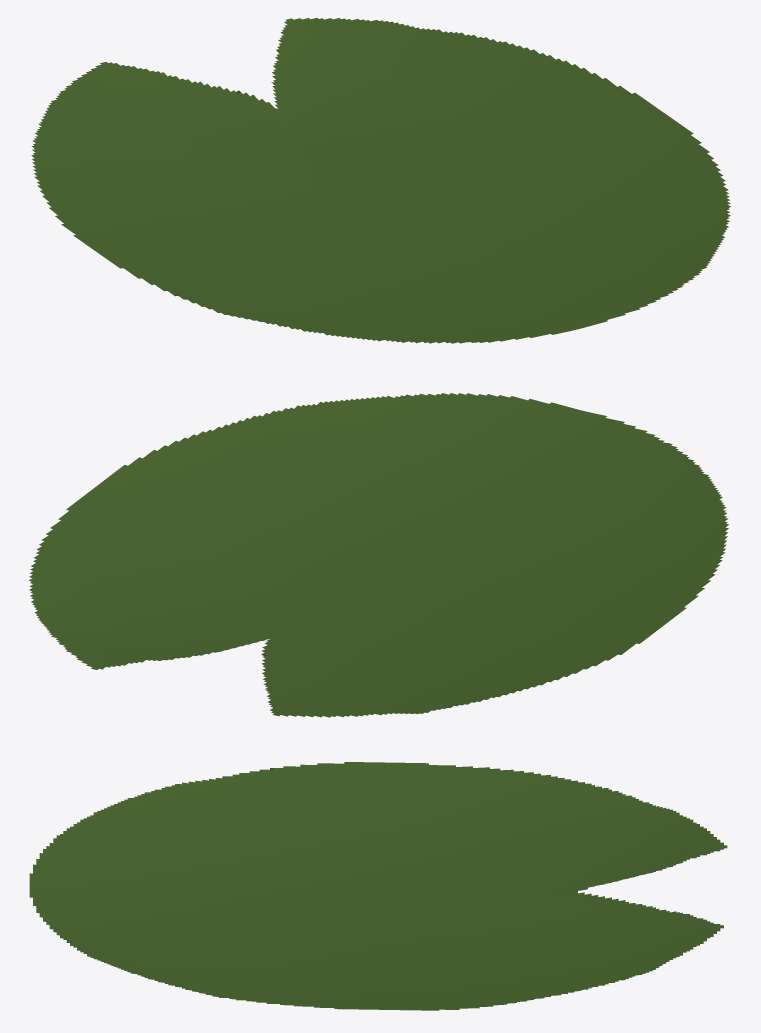
File: Water_Lily_Leaf_1.gltf
3 renders of one model, top to bottom at view 1: azimuth 30°, elevation 25°; view 2: azimuth 150°, elevation 25°; view 3: azimuth 270°, elevation 25°, orthographic. The views are drawn at different scales.
Visible parts, largest first — view 1: Water_Lily_Leaf_1; view 2: Water_Lily_Leaf_1; view 3: Water_Lily_Leaf_1.
Part boxes in pixels (box(x1,y1,x2,y2)): Water_Lily_Leaf_1: box(31, 18, 730, 343); Water_Lily_Leaf_1: box(29, 393, 728, 717); Water_Lily_Leaf_1: box(29, 762, 727, 1010).
Bounding box in the file's own units: 22.6 × 0.5871 × 26.11.
1 material, 1 textured.
